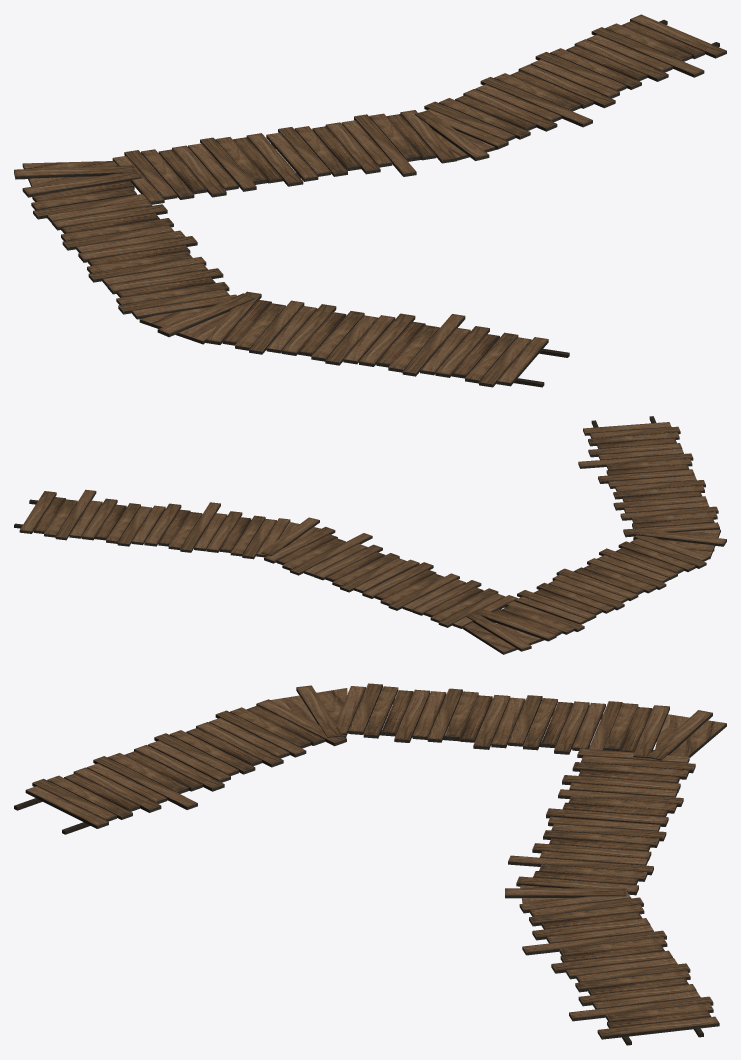
The model's file is map12_bridge01.FBX.
3 views of the same model, one above another, from view 1: azimuth 30°, elevation 25°; view 2: azimuth 150°, elevation 25°; view 3: azimuth 270°, elevation 25° (orthographic). The views are drawn at different scales.
Visible parts, largest first — view 1: 005; view 2: 005; view 3: 005.
Part boxes in pixels (x1,y1,x2,y2): 005: (14,14,726,387); 005: (14,416,726,654); 005: (14,683,726,1045).
Size of the model in its own units: 10351 by 105 by 8767.
Materials: 1 (1 with a texture image).
